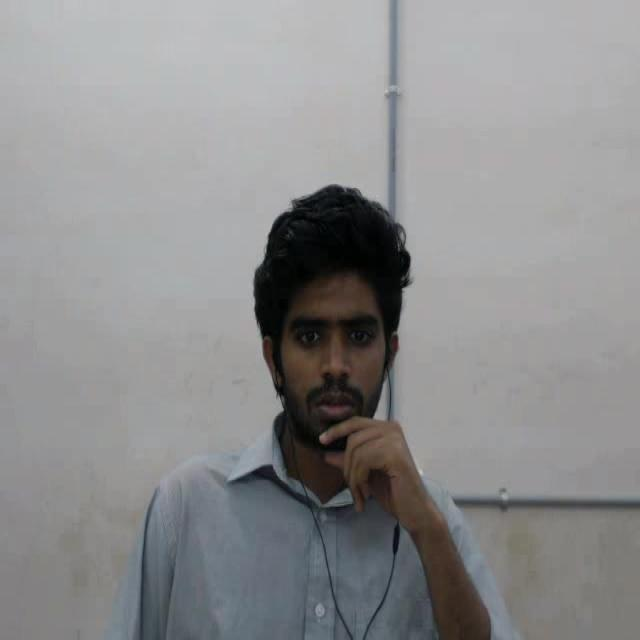Bored: (219, 151, 443, 511)
